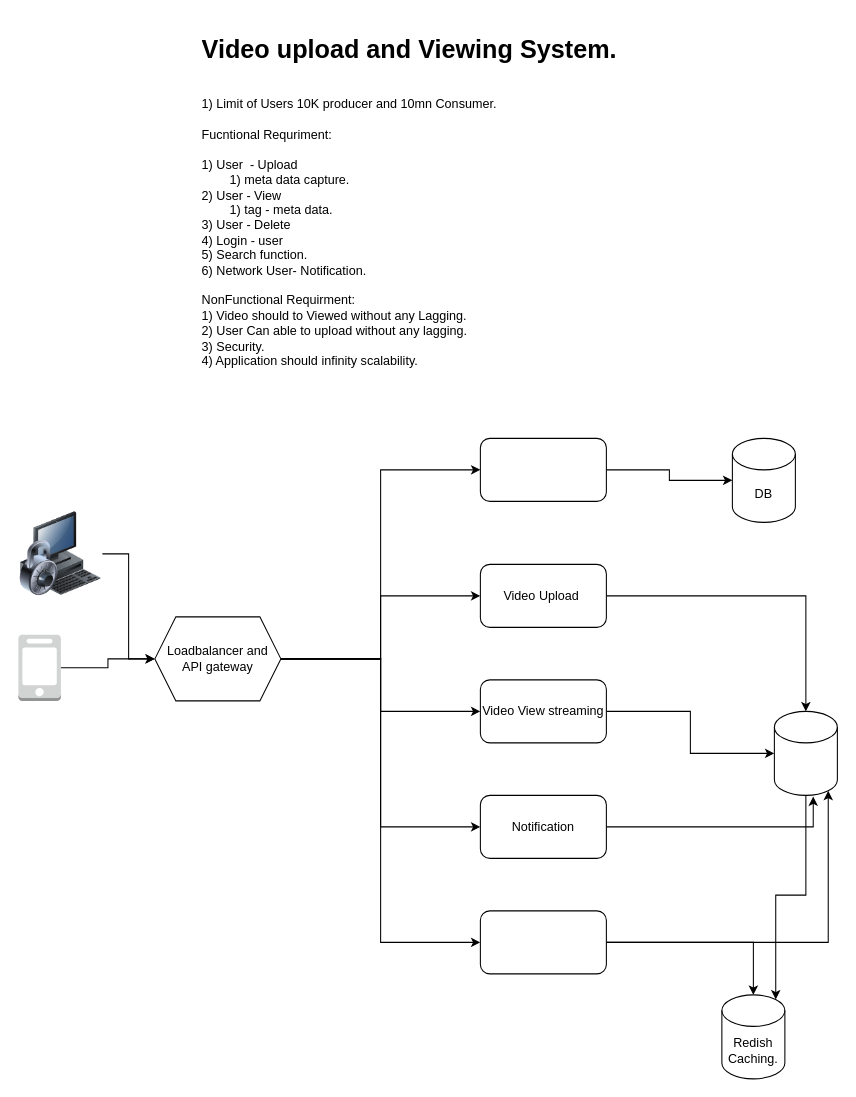
Image size: 856x1097. Some labels were removed from this diagram. The centre of each missing label's shape, as x and y in pixels:
"Authentication" goes at (542,469).
"No SQL" goes at (805,752).
"Search" goes at (542,942).
